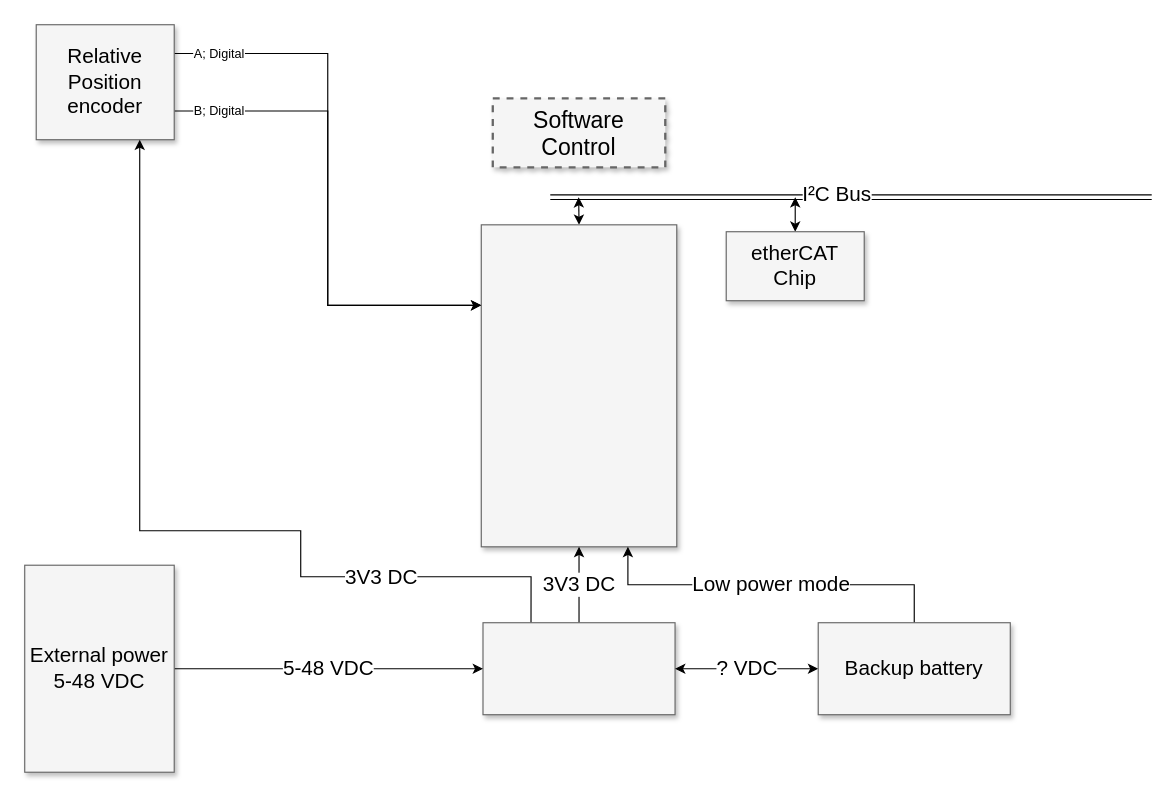
This 1172x800 diagram has some shape labels left out. The shapes that lost their labels are listed below. From the top down, each one's centre as x and y in pixels, then its label:
(x=580, y=387): STM32 (F747 for now)
(x=579, y=670): Powersupply with PSU
